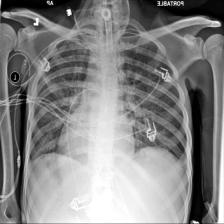normal: (27, 19, 190, 166)
